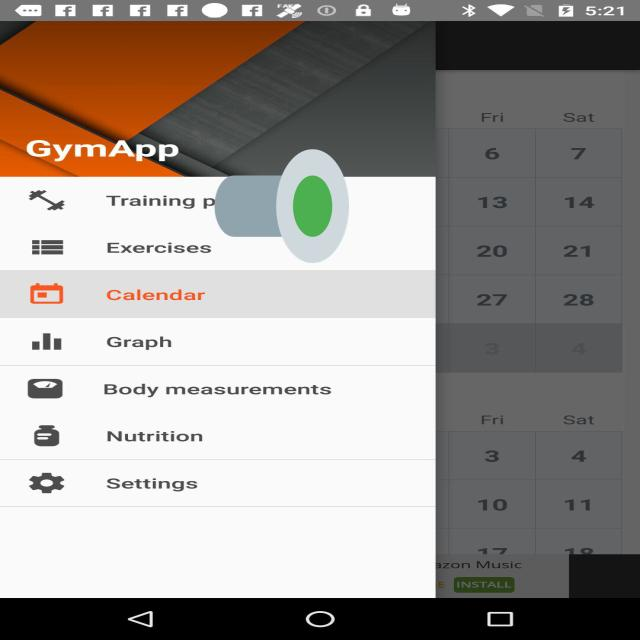social proof: (215, 101, 349, 311)
